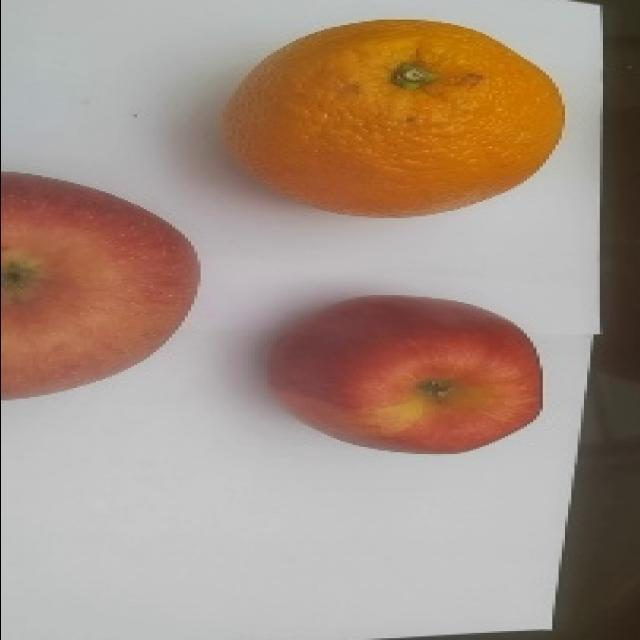Apple: (0, 170, 201, 400), (266, 293, 543, 454)
Orange: (220, 18, 565, 218)
